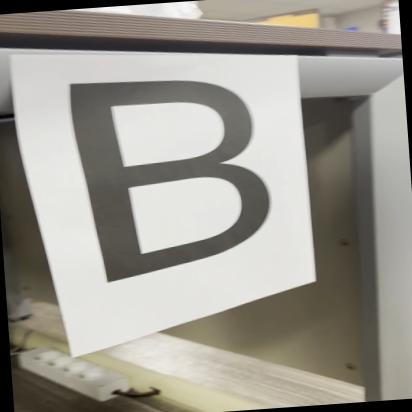seat: (52, 59, 305, 308)
